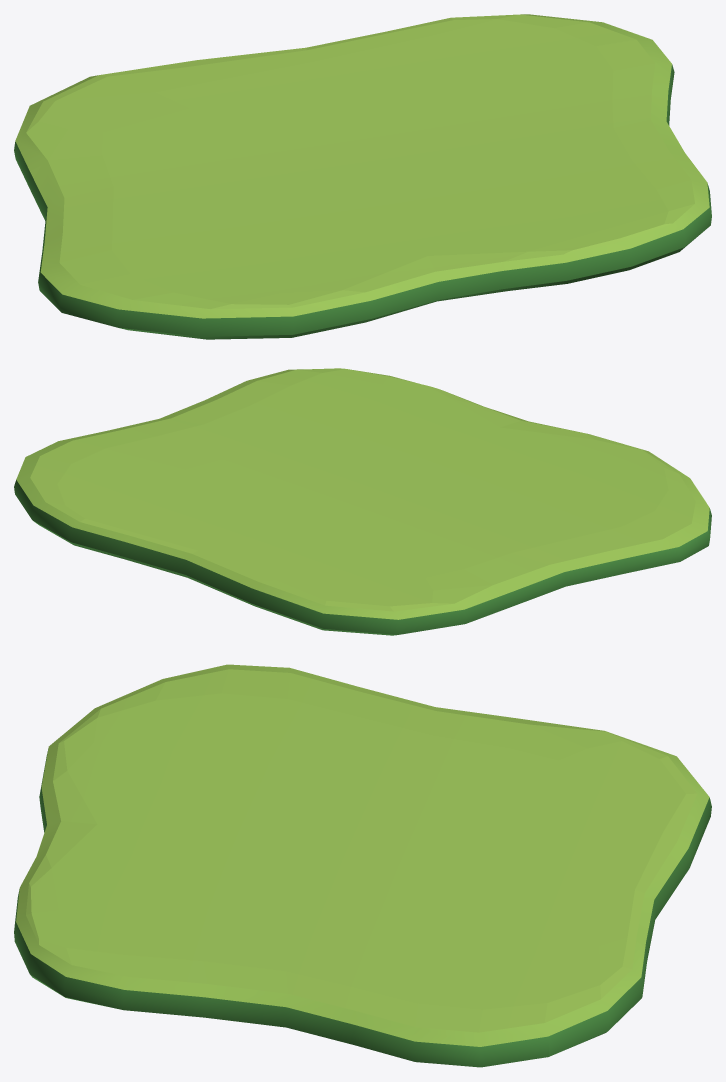
File: FloorGrass.gltf
3 views of the same model, one above another, from view 1: azimuth 30°, elevation 25°; view 2: azimuth 150°, elevation 25°; view 3: azimuth 270°, elevation 25° (orthographic). The views are drawn at different scales.
Visible parts, largest first — view 1: FloorGrass; view 2: FloorGrass; view 3: FloorGrass.
Boxes of the visible parts, left/top/right/bottom form: FloorGrass: left=14, top=14, right=711, bottom=339; FloorGrass: left=14, top=368, right=711, bottom=635; FloorGrass: left=14, top=664, right=711, bottom=1067.
Bounding box in the file's own units: 8.85 × 0.3698 × 6.78.
1 material, 1 textured.
